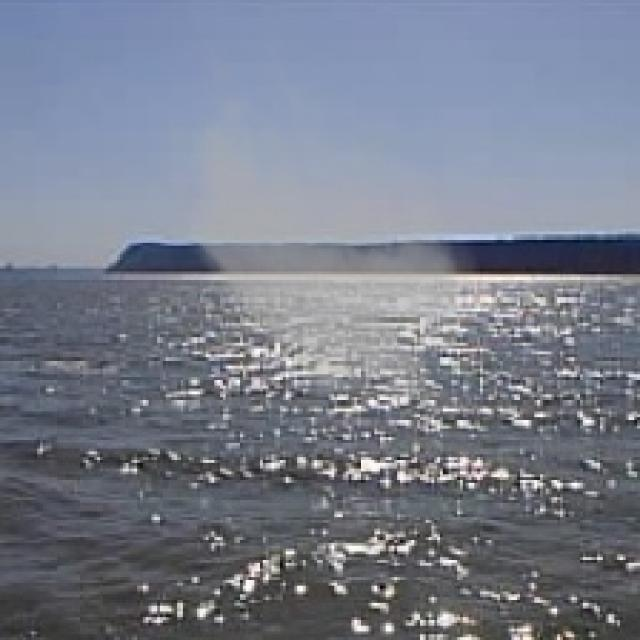Smoke: (148, 42, 498, 418)
